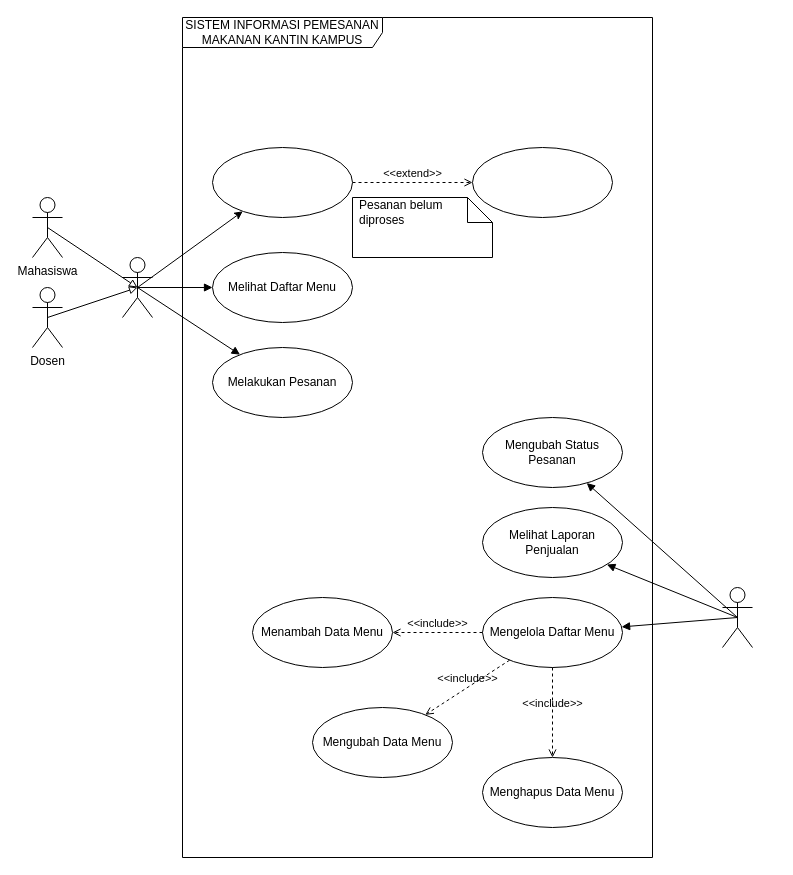
This 793x875 diagram has some shape labels left out. The shapes that lost their labels are listed below. From the top down, each one's centre as x and y in pixels, then its label:
At (x=282, y=182): "Melihat Status Pesanan".
At (x=542, y=182): "Membatalkan Pesanan".
At (x=422, y=227): "Pelanggan dapat membatalkan pesanan".
At (x=137, y=287): "Pelanggan".
At (x=737, y=617): "Penjual Kantin".
